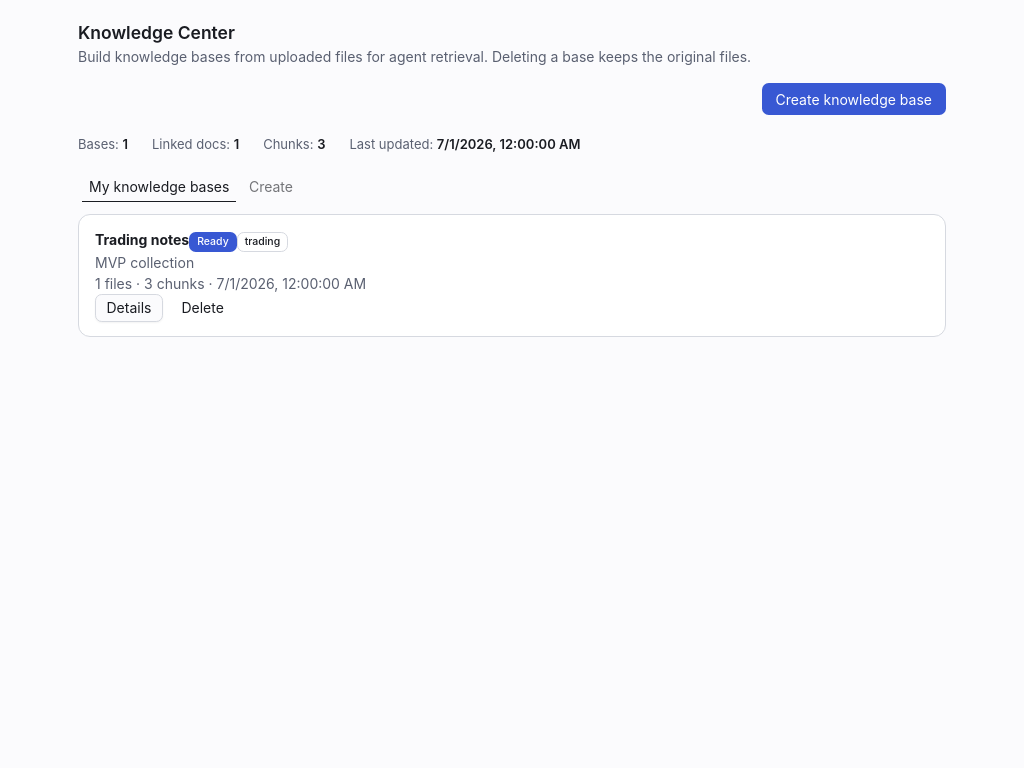
it: Knowledge Center › opens detail dialog from list
The width and height of the screenshot is (1024, 768).
Check: the text "Trading notes" is shown, box [95, 231, 189, 248]
What coordinates should you click on to do the following:
click the button "Details"
I would click on:
 (129, 308)
Its box is [95, 294, 163, 322].
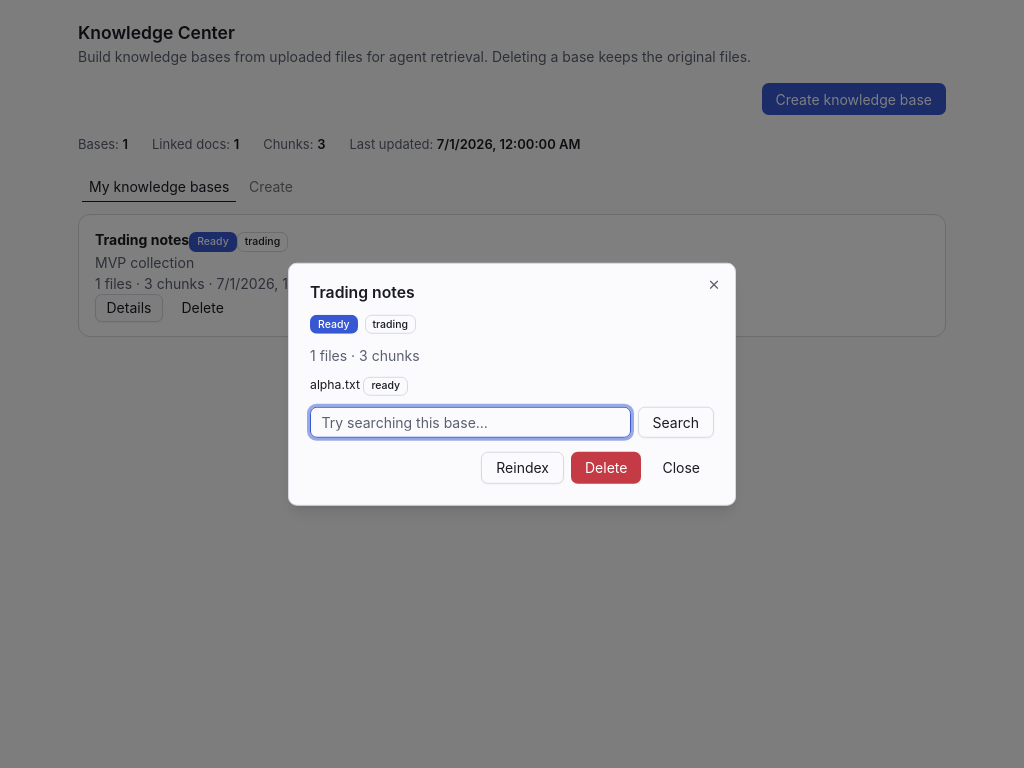
Check: the list item "alpha.txt" is shown, box [310, 377, 360, 392]
